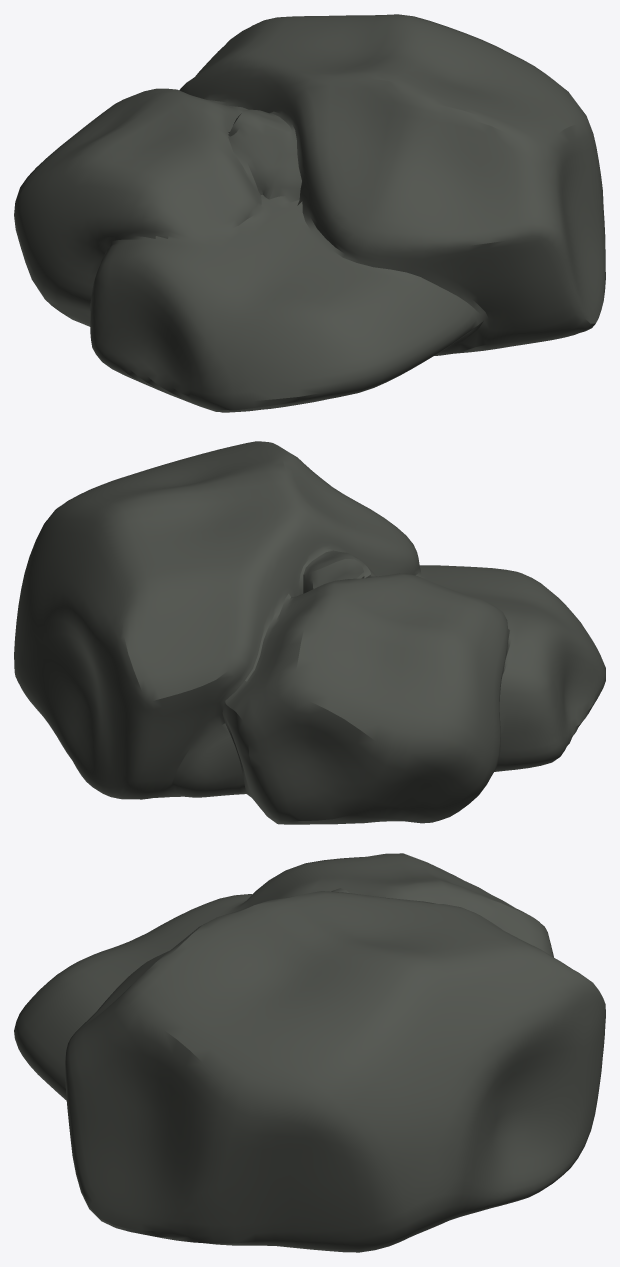
File: coral_rock3.glb
3 renders of one model, top to bottom at view 1: azimuth 30°, elevation 25°; view 2: azimuth 150°, elevation 25°; view 3: azimuth 270°, elevation 25°, orthographic. The views are drawn at different scales.
Parts seen in each view (by area): view 1: Environment_Cliff1; view 2: Environment_Cliff1; view 3: Environment_Cliff1.
Part boxes in pixels (bbox=[...]): Environment_Cliff1: bbox=[14, 14, 605, 412]; Environment_Cliff1: bbox=[14, 441, 605, 824]; Environment_Cliff1: bbox=[14, 853, 605, 1252].
Size of the model in its own units: 5.63 by 2.96 by 5.41.
1 material, 1 textured.
